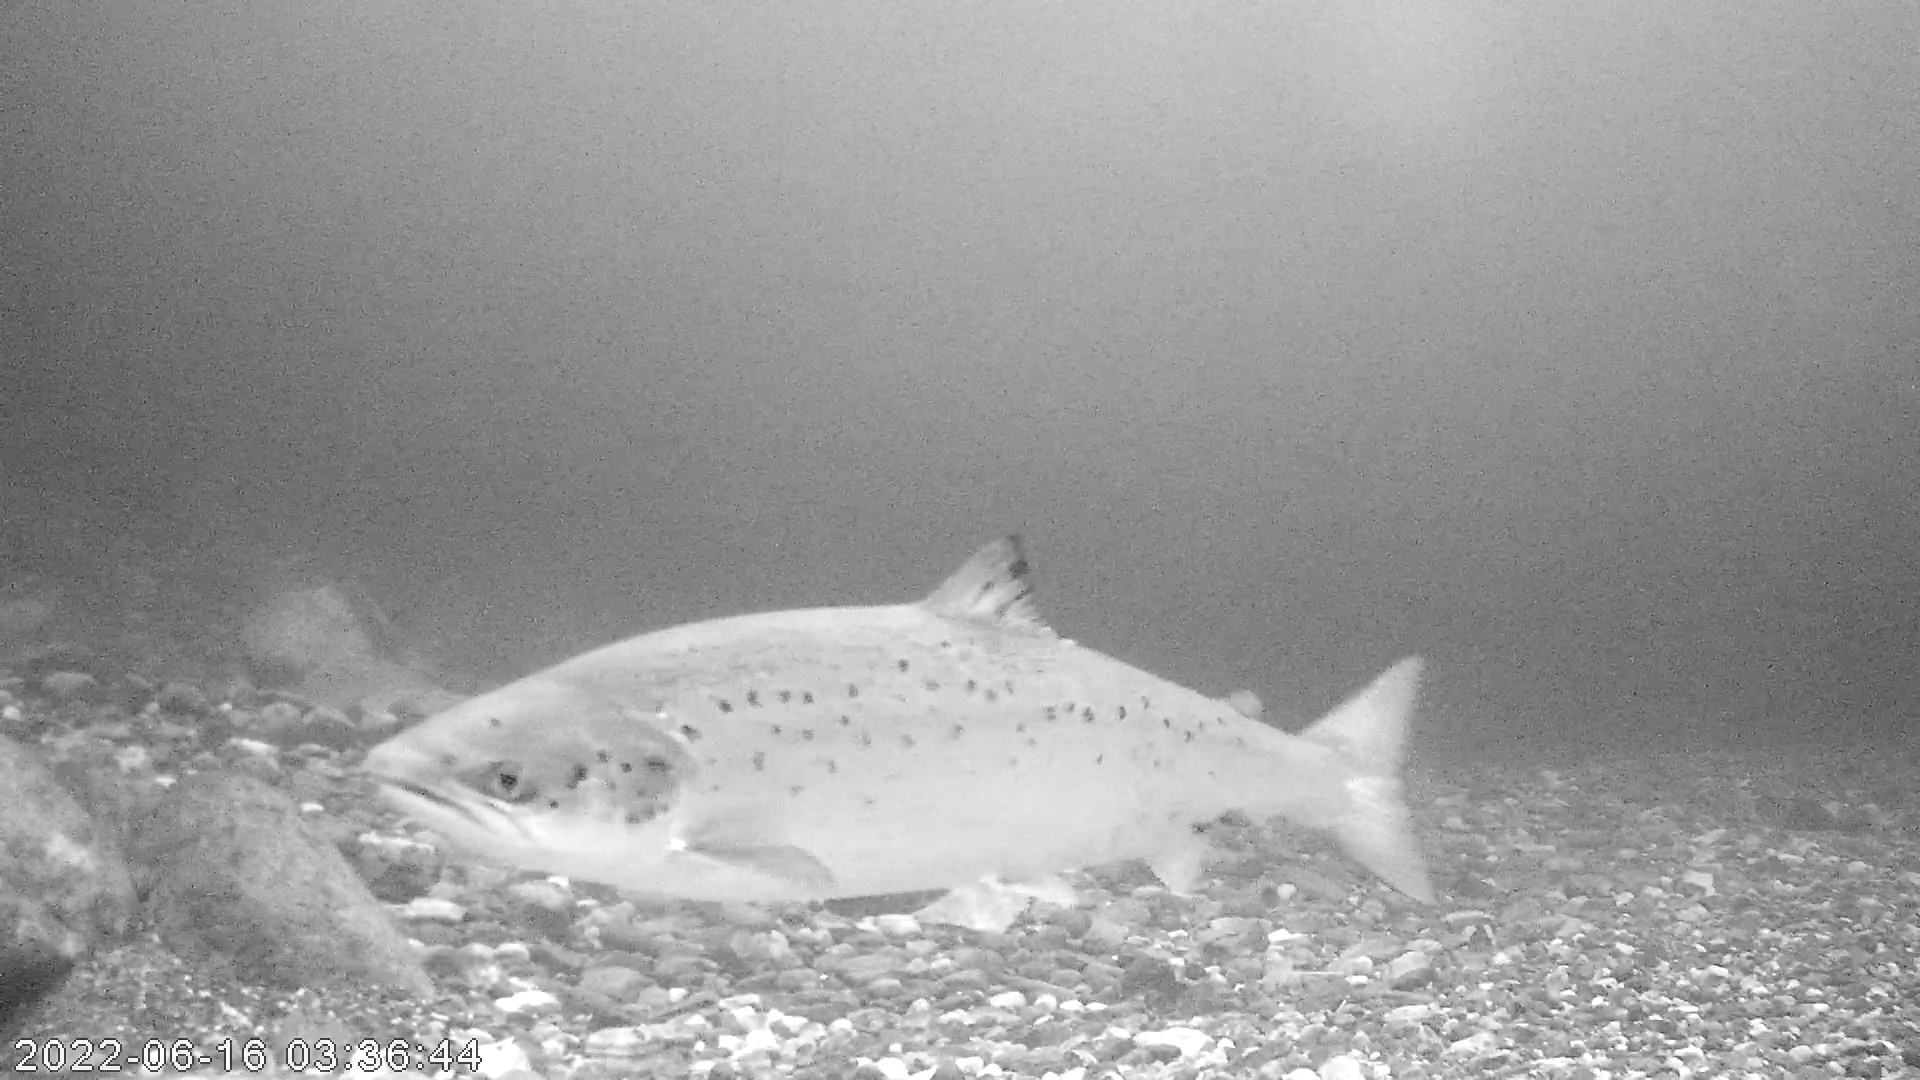salmon: (363, 527, 1443, 907)
